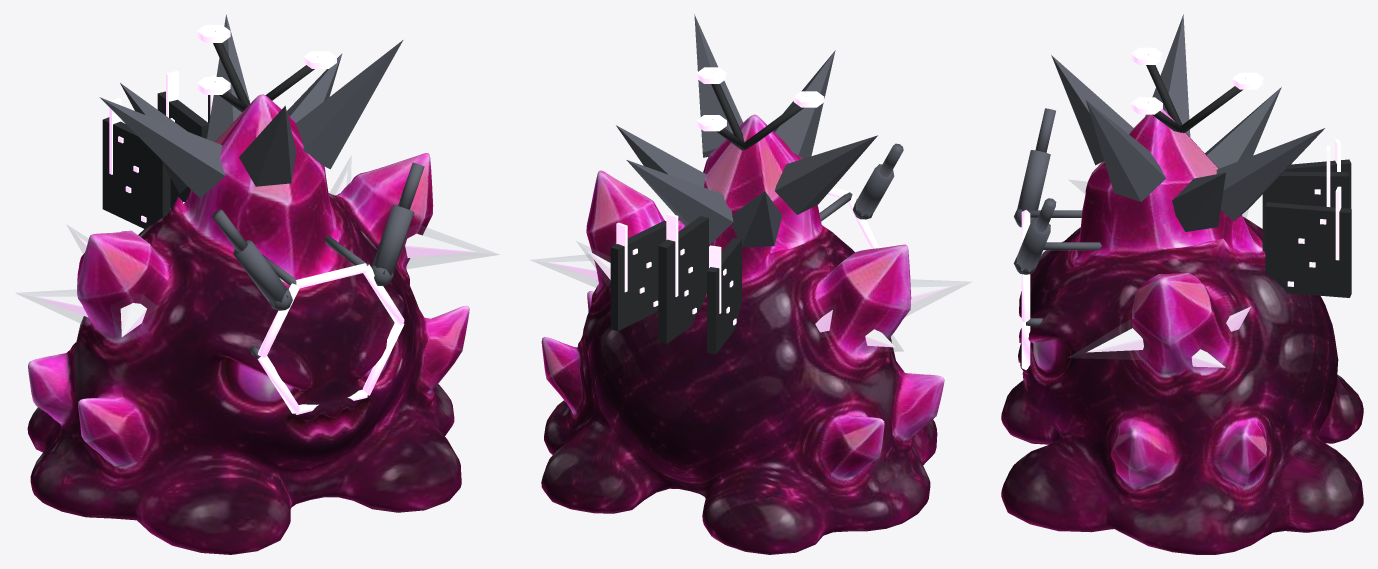
File: Monster_NULL.glb
3 renders of one model, left to right at view 1: azimuth 30°, elevation 25°; view 2: azimuth 150°, elevation 25°; view 3: azimuth 270°, elevation 25°, orthographic. The views are drawn at different scales.
Parts seen in each view (by area): view 1: Monster_NULL, Monster_NULL_Evolution; view 2: Monster_NULL, Monster_NULL_Evolution; view 3: Monster_NULL, Monster_NULL_Evolution.
Boxes of the visible parts, box(x1,y1,x2,y2) form: Monster_NULL: box(27, 94, 469, 554); Monster_NULL_Evolution: box(16, 14, 499, 414); Monster_NULL: box(541, 114, 944, 554); Monster_NULL_Evolution: box(531, 14, 970, 353); Monster_NULL: box(1001, 109, 1363, 554); Monster_NULL_Evolution: box(1013, 14, 1351, 374).
Size of the model in its own units: 2.25 by 2.3 by 1.81.
Materials: 5 (1 with a texture image).
